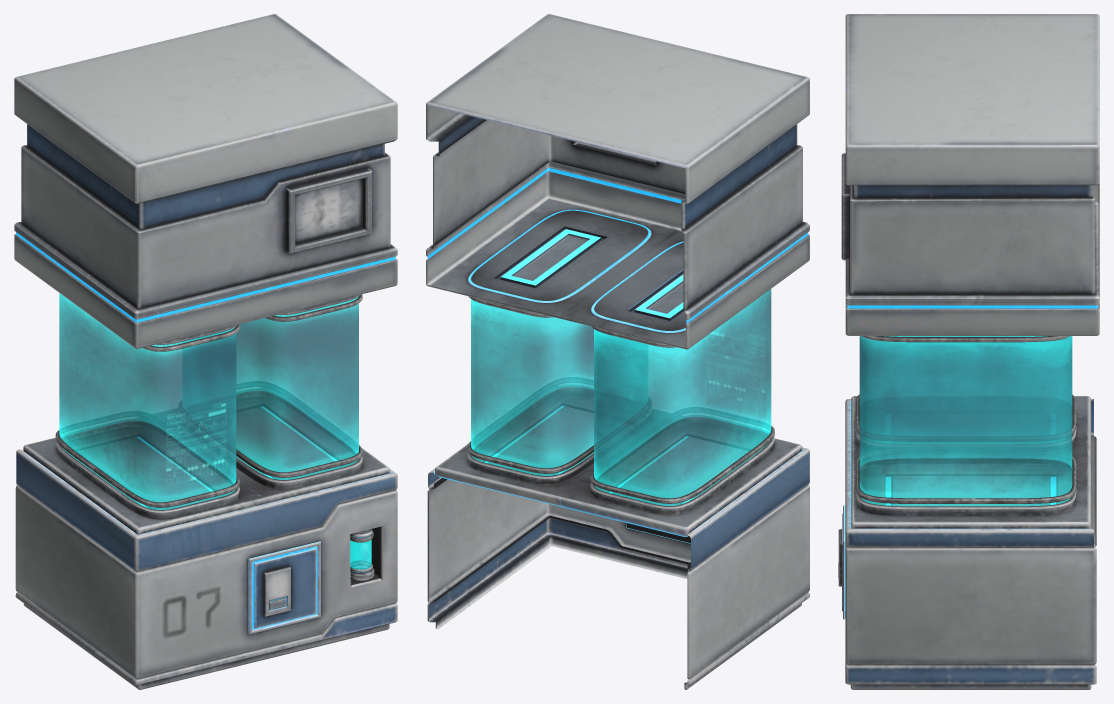
The model's file is lab_bigcab.glb.
3 renders of one model, left to right at view 1: azimuth 30°, elevation 25°; view 2: azimuth 150°, elevation 25°; view 3: azimuth 270°, elevation 25°, orthographic. The views are drawn at different scales.
Visible parts, largest first — view 1: prop; view 2: prop; view 3: prop.
Part boxes in pixels (left/top/right/bottom): prop: left=14, top=14, right=397, bottom=689; prop: left=426, top=14, right=809, bottom=689; prop: left=838, top=14, right=1099, bottom=689.
Size of the model in its own units: 2.08 by 3.99 by 1.73.
2 materials, 2 textured.
